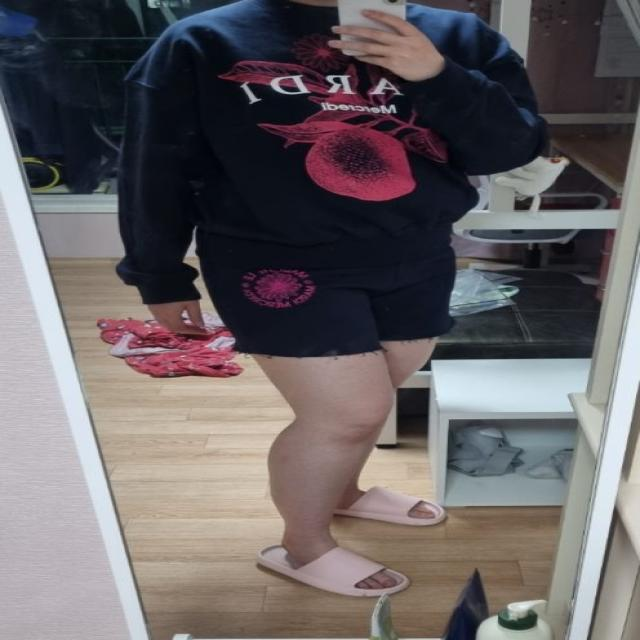mtm: (118, 0, 555, 300)
shortpants: (206, 234, 464, 357)
